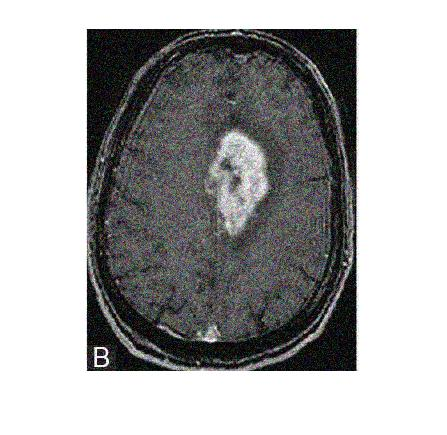Brain_Cancer: (202, 127, 274, 244)
